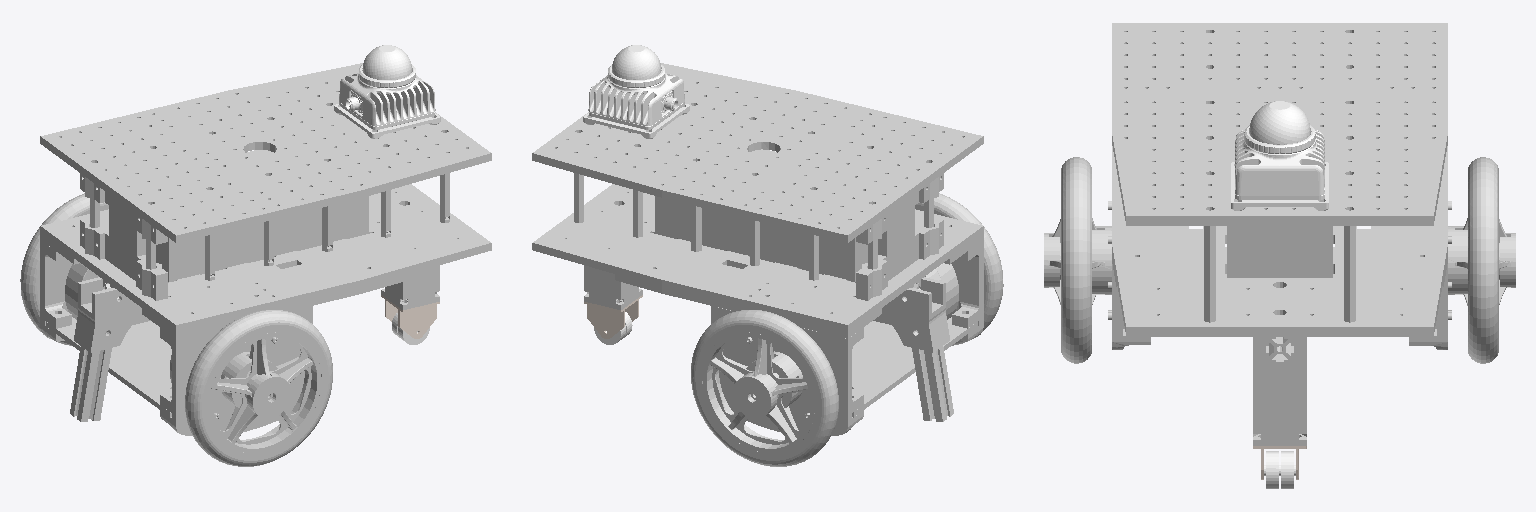
URDF robot description (rover):
<?xml version="1.0" encoding="utf-8"?>
<!-- This URDF was automatically created by SolidWorks to URDF Exporter! Originally created by Stephen Brawner (brawner@gmail.com) 
     Commit Version: 1.6.0-4-g7f85cfe  Build Version: 1.6.7995.38578
     For more information, please see http://wiki.ros.org/sw_urdf_exporter -->
<robot
  name="rover">
  <link
    name="base_link">
    <inertial>
      <origin
        xyz="0.0595136466378589 1.1759268480476E-06 0.0734752036245349"
        rpy="0 0 0" />
      <mass
        value="4.94888633034066" />
      <inertia
        ixx="0.0103888101184389"
        ixy="-2.22904284007131E-06"
        ixz="-2.31737263441851E-05"
        iyy="0.0147297837029213"
        iyz="-5.95194375789641E-08"
        izz="0.0220654139526354" />
    </inertial>
    <visual>
      <origin
        xyz="0 0 0"
        rpy="0 0 0" />
      <geometry>
        <mesh
          filename="package://rover_localization/meshes/base_link.STL" />
      </geometry>
      <material
        name="">
        <color
          rgba="0.894117647058823 0.894117647058823 0.894117647058823 1" />
      </material>
    </visual>
    <collision>
      <origin
        xyz="0 0 0"
        rpy="0 0 0" />
      <geometry>
        <mesh
          filename="package://rover_localization/meshes/base_link.STL" />
      </geometry>
    </collision>
  </link>
  <link
    name="RWheel_Link">
    <inertial>
      <origin
        xyz="-6.8403E-06 -0.026333 -9.6345E-06"
        rpy="0 0 0" />
      <mass
        value="0.275" />
      <inertia
        ixx="0.0004044"
        ixy="-9.0985E-09"
        ixz="-1.0297E-08"
        iyy="0.00078519"
        iyz="-1.2991E-08"
        izz="0.00040439" />
    </inertial>
    <visual>
      <origin
        xyz="0 0 0"
        rpy="0 0 0" />
      <geometry>
        <mesh
          filename="package://rover_localization/meshes/RWheel_Link.STL" />
      </geometry>
      <material
        name="">
        <color
          rgba="0.89412 0.89412 0.89412 1" />
      </material>
    </visual>
    <collision>
      <origin
        xyz="0 0 0"
        rpy="0 0 0" />
      <geometry>
        <mesh
          filename="package://rover_localization/meshes/RWheel_Link.STL" />
      </geometry>
    </collision>
  </link>
  <joint
    name="RWheel_Joint"
    type="continuous">
    <origin
      xyz="0 -0.1175 0.0001"
      rpy="0 0 0" />
    <parent
      link="base_link" />
    <child
      link="RWheel_Link" />
    <axis
      xyz="0 1 0" />
  </joint>
  <link
    name="LWheel_Link">
    <inertial>
      <origin
        xyz="6.8488E-06 0.026333 -9.6284E-06"
        rpy="0 0 0" />
      <mass
        value="0.275" />
      <inertia
        ixx="0.0004044"
        ixy="-9.11E-09"
        ixz="1.0302E-08"
        iyy="0.00078519"
        iyz="1.2983E-08"
        izz="0.00040439" />
    </inertial>
    <visual>
      <origin
        xyz="0 0 0"
        rpy="0 0 0" />
      <geometry>
        <mesh
          filename="package://rover_localization/meshes/LWheel_Link.STL" />
      </geometry>
      <material
        name="">
        <color
          rgba="0.89412 0.89412 0.89412 1" />
      </material>
    </visual>
    <collision>
      <origin
        xyz="0 0 0"
        rpy="0 0 0" />
      <geometry>
        <mesh
          filename="package://rover_localization/meshes/LWheel_Link.STL" />
      </geometry>
    </collision>
  </link>
  <joint
    name="LWheel_Joint"
    type="continuous">
    <origin
      xyz="0 0.1175 0"
      rpy="0 0 0" />
    <parent
      link="base_link" />
    <child
      link="LWheel_Link" />
    <axis
      xyz="0 -1 0" />
  </joint>
  <link
    name="Castermock_Link">
    <inertial>
      <origin
        xyz="2.7756E-17 -6.6373E-18 0.030238"
        rpy="0 0 0" />
      <mass
        value="0.96096" />
      <inertia
        ixx="0.00054693"
        ixy="-2.1106E-08"
        ixz="-6.2579E-20"
        iyy="0.00053722"
        iyz="2.7134E-20"
        izz="0.00022278" />
    </inertial>
    <visual>
      <origin
        xyz="0 0 0"
        rpy="0 0 0" />
      <geometry>
        <mesh
          filename="package://rover_localization/meshes/Castermock_Link.STL" />
      </geometry>
      <material
        name="">
        <color
          rgba="1 0.94902 0.9098 1" />
      </material>
    </visual>
    <collision>
      <origin
        xyz="0 0 0"
        rpy="0 0 0" />
      <geometry>
        <mesh
          filename="package://rover_localization/meshes/Castermock_Link.STL" />
      </geometry>
    </collision>
  </link>
  <joint
    name="Castermock_Joint"
    type="revolute">
    <origin
      xyz="0.23885 0 -0.0264"
      rpy="0 0 0" />
    <parent
      link="base_link" />
    <child
      link="Castermock_Link" />
    <axis
      xyz="0 0 -1" />
    <limit
      lower="0"
      upper="0"
      effort="0"
      velocity="0" />
  </joint>
  <link
    name="Caster_Link">
    <inertial>
      <origin
        xyz="2.4448E-05 0.01125 -0.057948"
        rpy="0 0 0" />
      <mass
        value="0.17383" />
      <inertia
        ixx="9.8826E-05"
        ixy="-3.813E-09"
        ixz="-1.3325E-20"
        iyy="9.7072E-05"
        iyz="3.9567E-21"
        izz="4.025E-05" />
    </inertial>
    <visual>
      <origin
        xyz="0 0 0"
        rpy="0 0 0" />
      <geometry>
        <mesh
          filename="package://rover_localization/meshes/Caster_Link.STL" />
      </geometry>
      <material
        name="">
        <color
          rgba="1 1 1 1" />
      </material>
    </visual>
    <collision>
      <origin
        xyz="0 0 0"
        rpy="0 0 0" />
      <geometry>
        <mesh
          filename="package://rover_localization/meshes/Caster_Link.STL" />
      </geometry>
    </collision>
  </link>
  <joint
    name="Caster_Joint"
    type="continuous">
    <origin
      xyz="-2.4448E-05 -0.01125 -0.02775"
      rpy="0 0 0" />
    <parent
      link="Castermock_Link" />
    <child
      link="Caster_Link" />
    <axis
      xyz="0.0021732 1 0" />
  </joint>
  <link
    name="livox_frame">
    <inertial>
      <origin
        xyz="0 0 0"
        rpy="0 0 0" />
      <mass
        value="0" />
      <inertia
        ixx="0"
        ixy="0"
        ixz="0"
        iyy="0"
        iyz="0"
        izz="0" />
    </inertial>
    <visual>
      <origin
        xyz="0 0 0"
        rpy="0 0 0" />
      <geometry>
        <mesh
          filename="package://rover_localization/meshes/Lidar_Link.STL" />
      </geometry>
      <material
        name="">
        <color
          rgba="1 1 1 1" />
      </material>
    </visual>
    <collision>
      <origin
        xyz="0 0 0"
        rpy="0 0 0" />
      <geometry>
        <mesh
          filename="package://rover_localization/meshes/Lidar_Link.STL" />
      </geometry>
    </collision>
  </link>
  <joint
    name="Lidar_Joint"
    type="fixed">
    <origin
      xyz="0.215 0 0.2156"
      rpy="0 0 0" />
    <parent
      link="base_link" />
    <child
      link="livox_frame" />
    <axis
      xyz="0 0 0" />
  </joint>
</robot>

--- What the picture shows (computed from the rendered views, not written in the file) ---
3 views of the same robot in one strip: view 1: azimuth 30°, elevation 25°; view 2: azimuth 150°, elevation 25°; view 3: azimuth 270°, elevation 25° (orthographic).
Model rover with 6 links and 5 joints (1 revolute, 3 continuous, 1 fixed), rooted at base_link, posed all joints at 0.
Visible links, largest first — view 1: base_link, RWheel_Link, livox_frame, LWheel_Link, Castermock_Link; view 2: base_link, LWheel_Link, livox_frame, RWheel_Link, Castermock_Link; view 3: base_link, livox_frame, LWheel_Link, RWheel_Link, Caster_Link.
Boxes of the visible links, x1,y1,x2,y2 form: base_link: [40, 63, 491, 435]; RWheel_Link: [185, 310, 332, 466]; livox_frame: [334, 45, 440, 138]; LWheel_Link: [20, 193, 108, 345]; Castermock_Link: [381, 295, 439, 338]; base_link: [532, 63, 983, 435]; LWheel_Link: [691, 310, 838, 466]; livox_frame: [583, 45, 689, 138]; RWheel_Link: [915, 193, 1003, 345]; Castermock_Link: [584, 295, 642, 338]; base_link: [1108, 23, 1451, 445]; livox_frame: [1231, 101, 1328, 210]; LWheel_Link: [1448, 157, 1515, 363]; RWheel_Link: [1044, 157, 1111, 363]; Caster_Link: [1264, 451, 1295, 488].
Bounding box of the posed robot: 0.3615 × 0.337 × 0.2966 m (x, y, z).
Meshes: 6 distinct files referenced, 6 mesh visuals loaded (6 binary STL).
